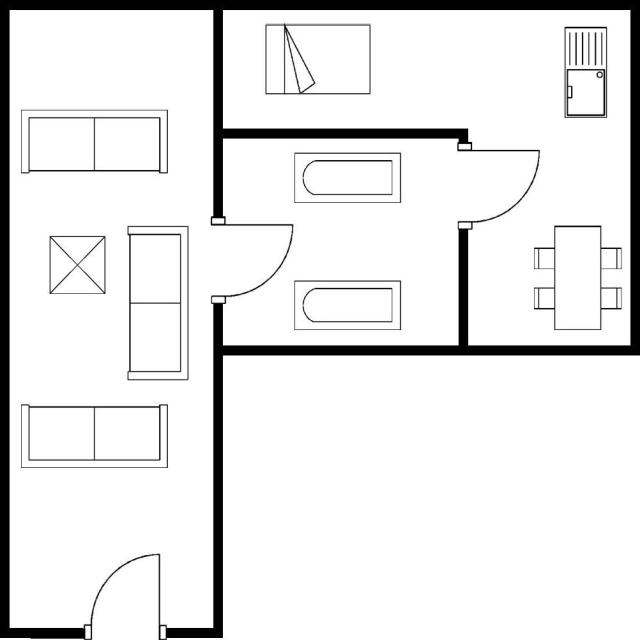bed: (261, 20, 373, 97)
coffee_table: (44, 232, 108, 298)
dining_table: (531, 222, 623, 332)
large_sofa: (120, 221, 192, 384), (16, 106, 169, 177), (16, 401, 170, 471)
sink: (560, 21, 608, 122)
tub: (290, 278, 404, 334), (292, 150, 404, 206)
